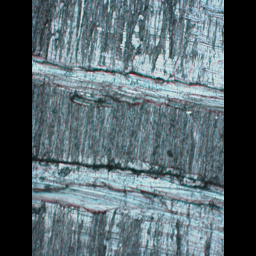d: (32, 0, 223, 117), (32, 152, 223, 255)
